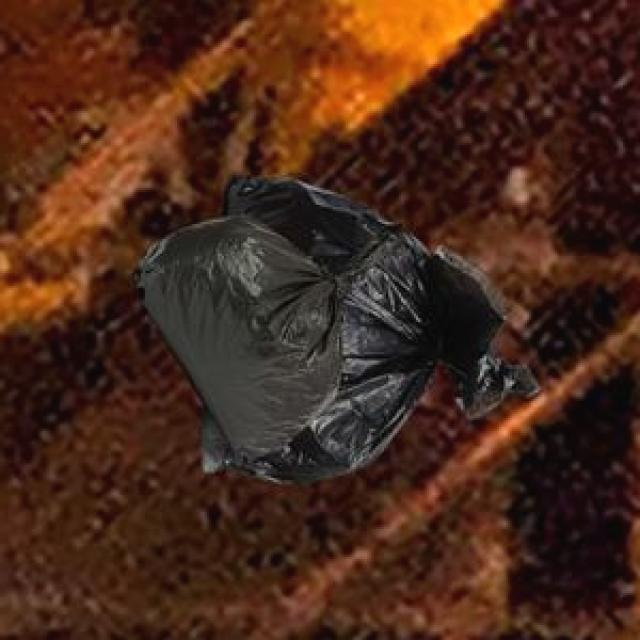Trashbag: (133, 209, 394, 473)
